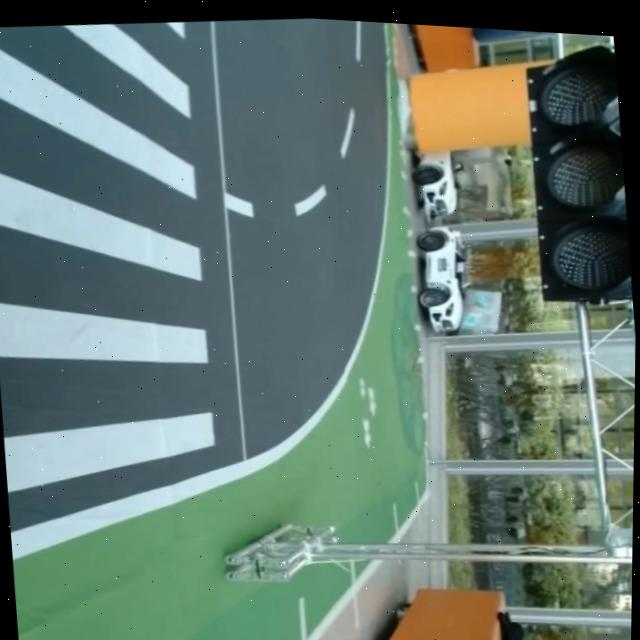traffic-light: (513, 35, 636, 312)
